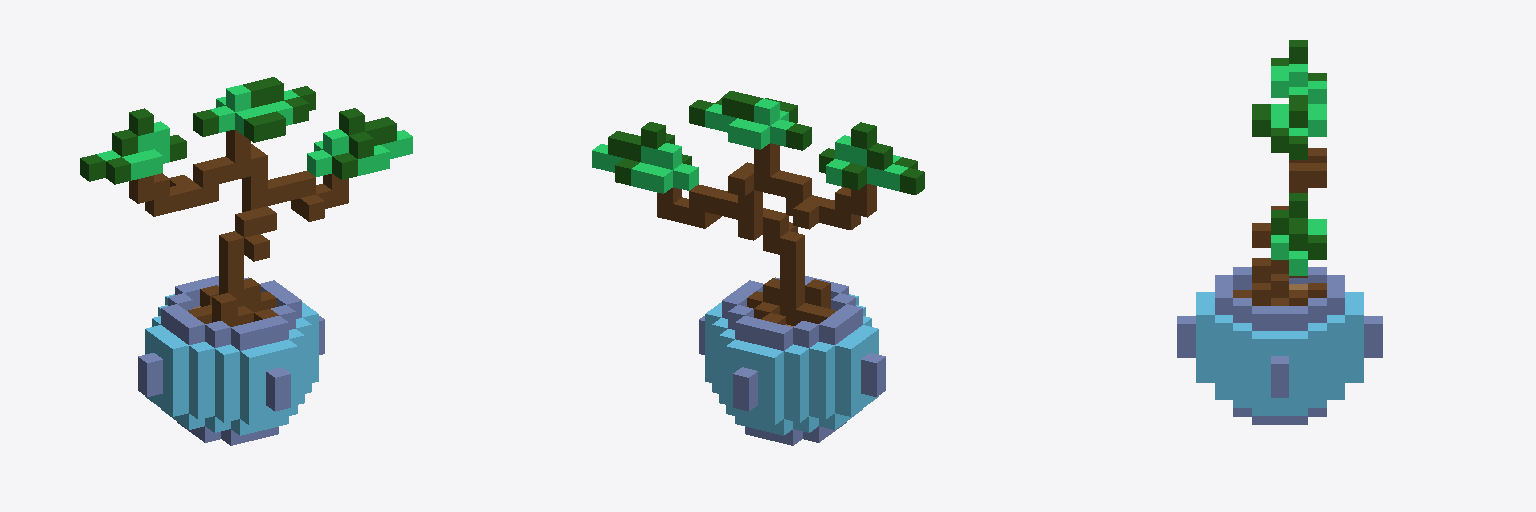
3 renders of one model, left to right at view 1: azimuth 30°, elevation 25°; view 2: azimuth 150°, elevation 25°; view 3: azimuth 270°, elevation 25°, orthographic.
Visible parts, largest first — view 1: Model; view 2: Model; view 3: Model.
Boxes of the visible parts, x1=… form: Model: x1=80, y1=77, x2=412, y2=445; Model: x1=592, y1=91, x2=924, y2=445; Model: x1=1177, y1=40, x2=1382, y2=424.
Bounding box in the file's own units: 20 × 19 × 11.
Materials: 1 (1 with a texture image).